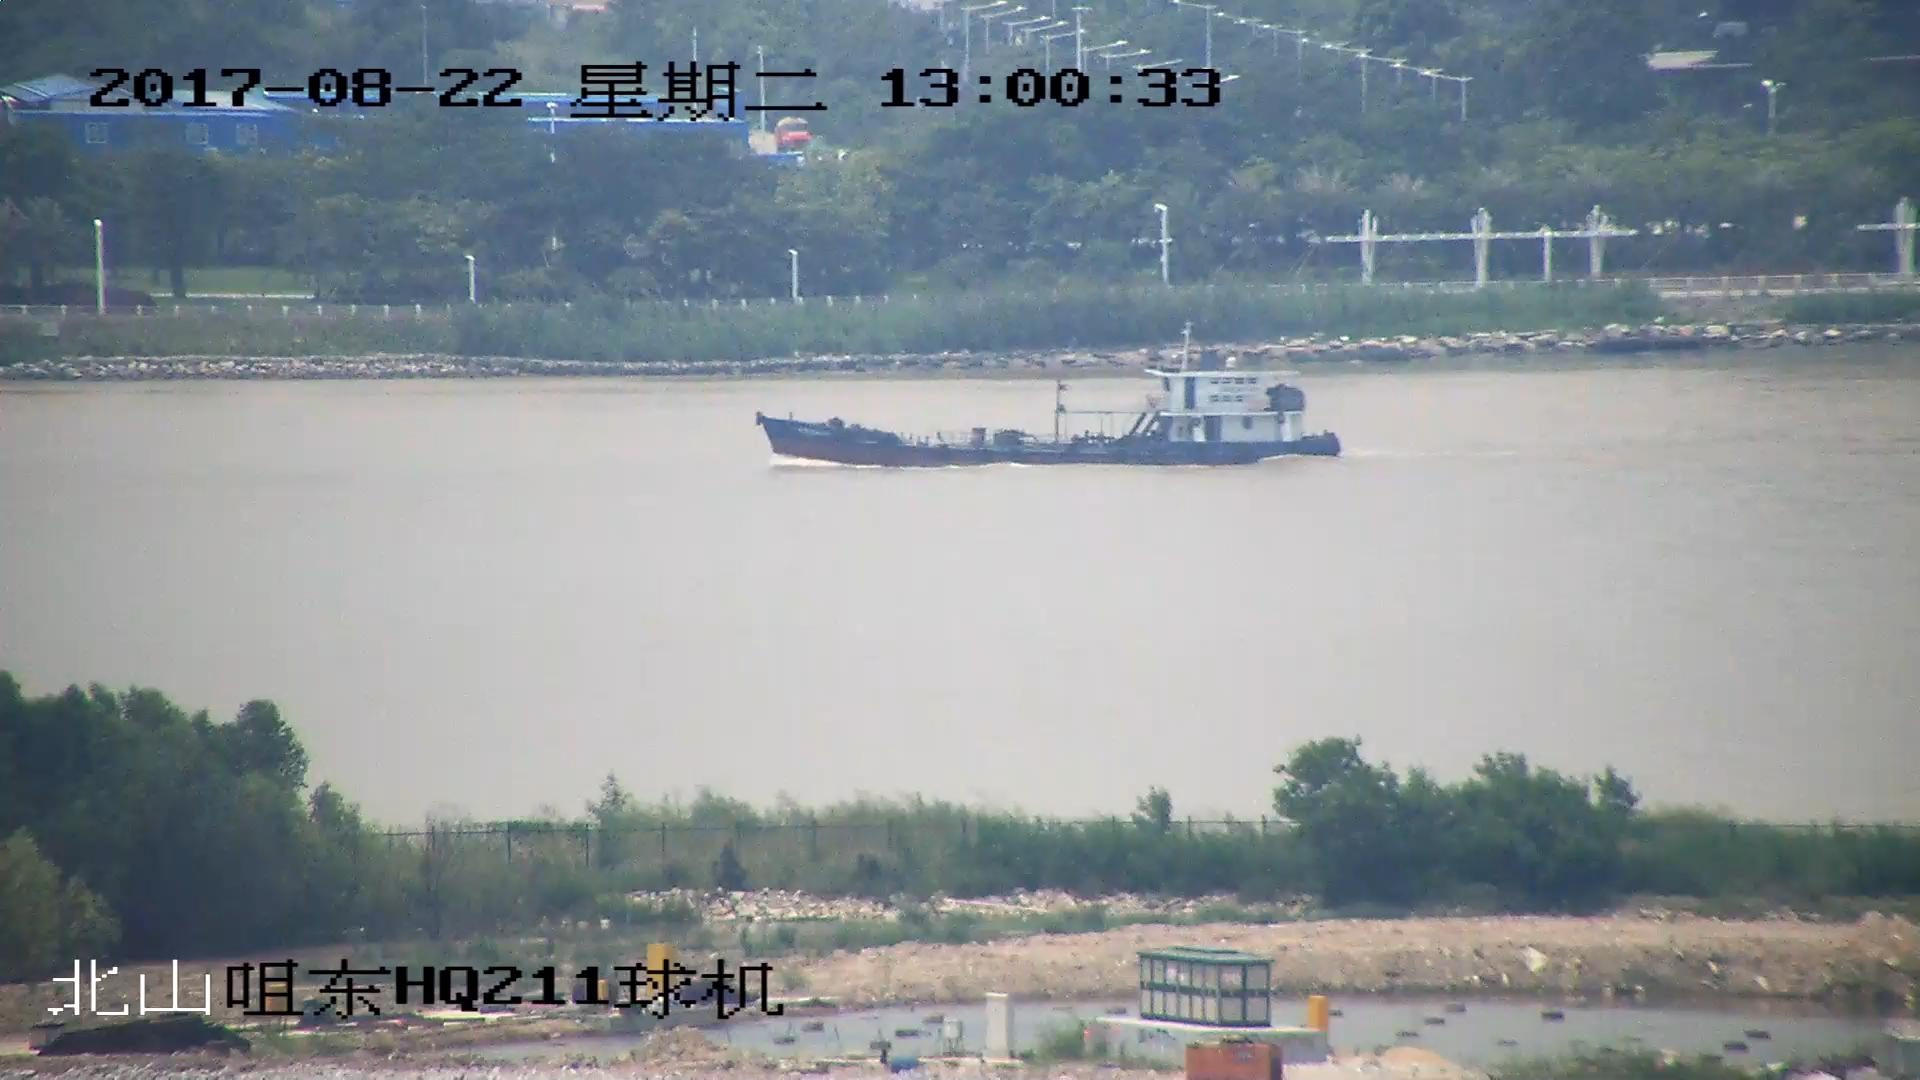fishing boat: (756, 317, 1344, 469)
